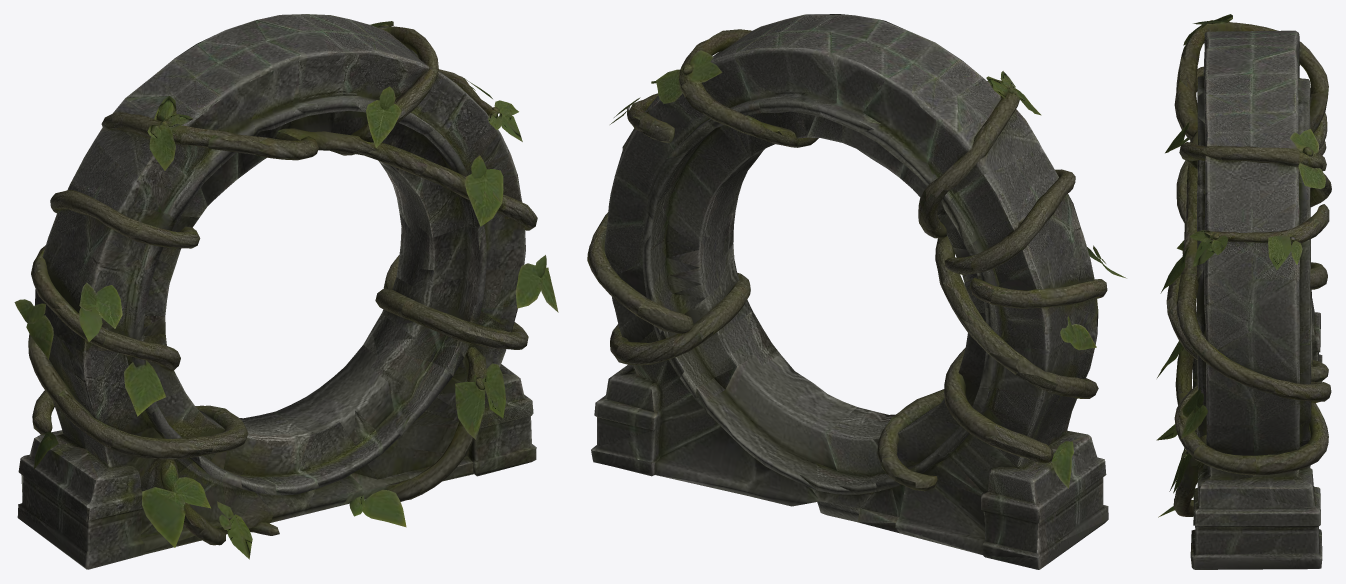
The model's file is portail.glb.
3 views of the same model, side by side, from view 1: azimuth 30°, elevation 25°; view 2: azimuth 150°, elevation 25°; view 3: azimuth 270°, elevation 25° (orthographic). The views are drawn at different scales.
Parts seen in each view (by area): view 1: mesh_node; view 2: mesh_node; view 3: mesh_node.
Part boxes in pixels (x1=…): mesh_node: x1=14, y1=14, x2=558, y2=569; mesh_node: x1=587, y1=14, x2=1126, y2=569; mesh_node: x1=1156, y1=14, x2=1331, y2=569.
Size of the model in its own units: 1 by 0.9355 by 0.3428.
Materials: 1 (1 with a texture image).
